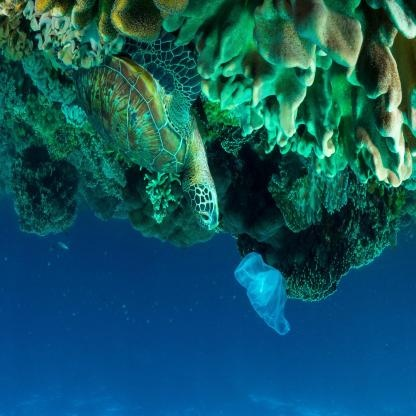pbag: (226, 242, 294, 340)
